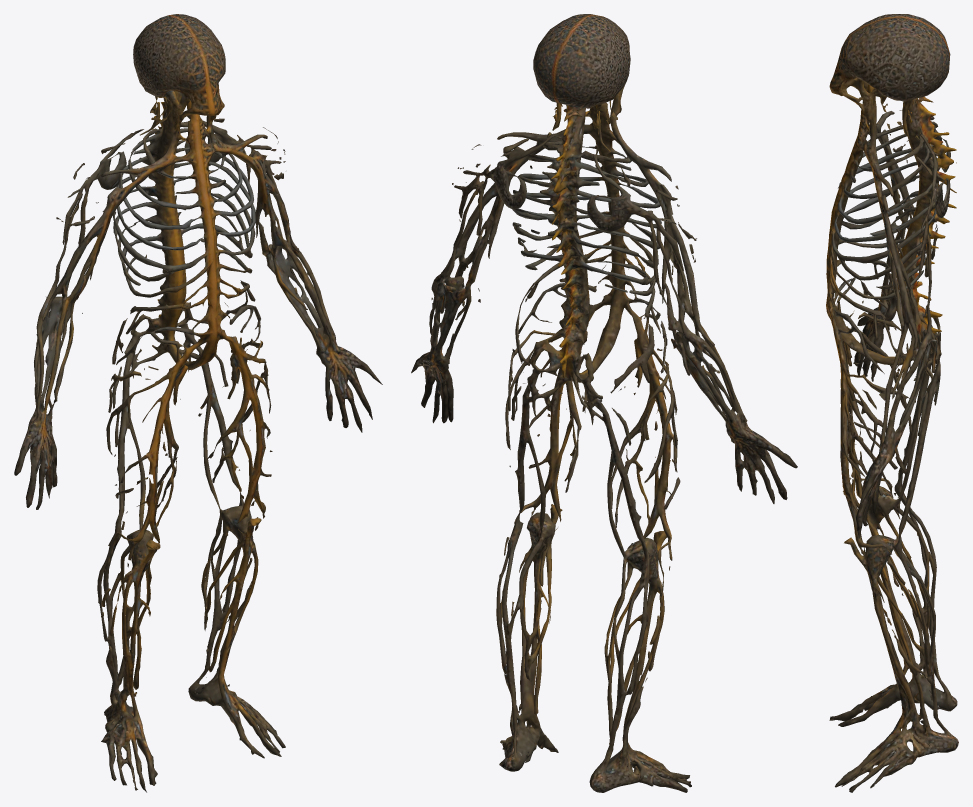
The model's file is nervous-system-v2.glb.
The picture shows the model from 3 angles, left to right: view 1: azimuth 30°, elevation 25°; view 2: azimuth 150°, elevation 25°; view 3: azimuth 270°, elevation 25°; orthographic projection. The views are drawn at different scales.
Visible parts, largest first — view 1: tripo_node_36f93ca4; view 2: tripo_node_36f93ca4; view 3: tripo_node_36f93ca4.
Boxes of the visible parts, box(x1,y1,x2,y2) form: tripo_node_36f93ca4: box(14, 14, 382, 792); tripo_node_36f93ca4: box(411, 14, 797, 792); tripo_node_36f93ca4: box(826, 14, 958, 792).
Bounding box in the file's own units: 52.35 × 99.6 × 16.28.
Materials: 1 (1 with a texture image).
